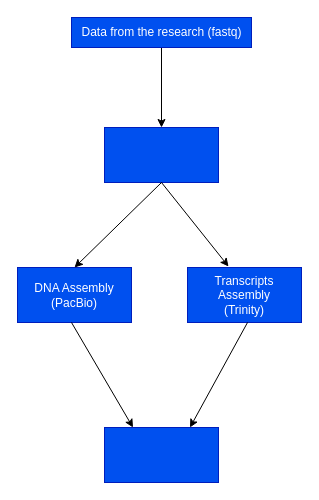
Some shapes in this 319 by 500 pixel diagram are drawn without their labels. The centre of each missing label's shape, as x and y in pixels:
Annotation: (x=161, y=454)
Trimming Part: (x=161, y=154)
